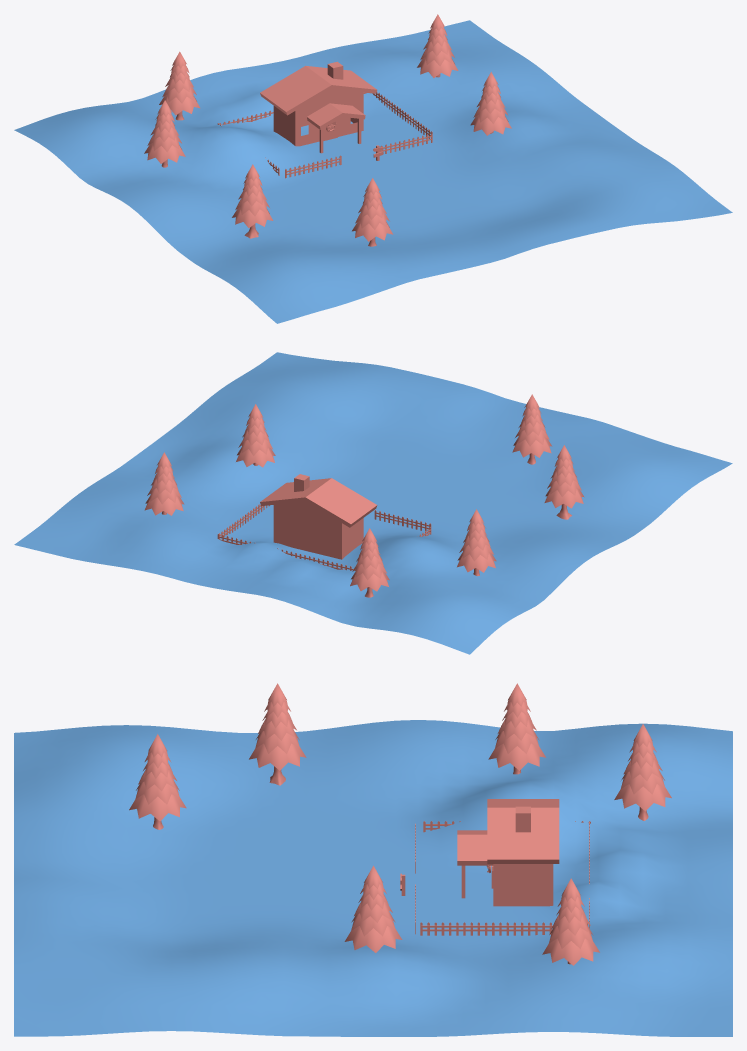
File: 03-JingleBells.fbx
3 views of the same model, one above another, from view 1: azimuth 30°, elevation 25°; view 2: azimuth 150°, elevation 25°; view 3: azimuth 270°, elevation 25° (orthographic). The views are drawn at different scales.
Parts seen in each view (by area): view 1: Ground, Tree_001, SantaHouse_001, Fence_001; view 2: Ground, Tree_001, SantaHouse_001, Fence_001; view 3: Ground, Tree_001, SantaHouse_001, Fence_001.
Boxes of the visible parts, box(x1,y1,x2,y2) form: Ground: box(14, 20, 732, 323); Tree_001: box(144, 14, 511, 246); SantaHouse_001: box(260, 61, 377, 153); Fence_001: box(217, 91, 432, 178); Ground: box(14, 352, 732, 654); Tree_001: box(144, 394, 584, 597); SantaHouse_001: box(260, 474, 377, 559); Fence_001: box(217, 504, 431, 570); Ground: box(14, 720, 732, 1036); Tree_001: box(129, 683, 671, 965); SantaHouse_001: box(457, 799, 559, 906); Fence_001: box(415, 821, 590, 935).
Size of the model in its own units: 120 by 18.33 by 120.
